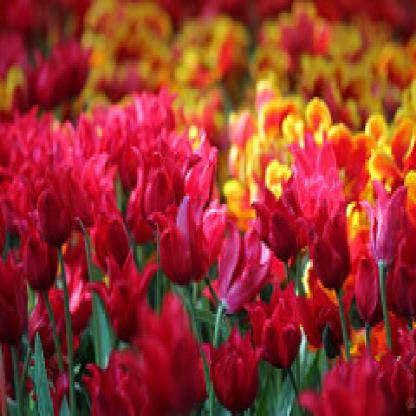TULIP: (8, 66, 405, 396)
